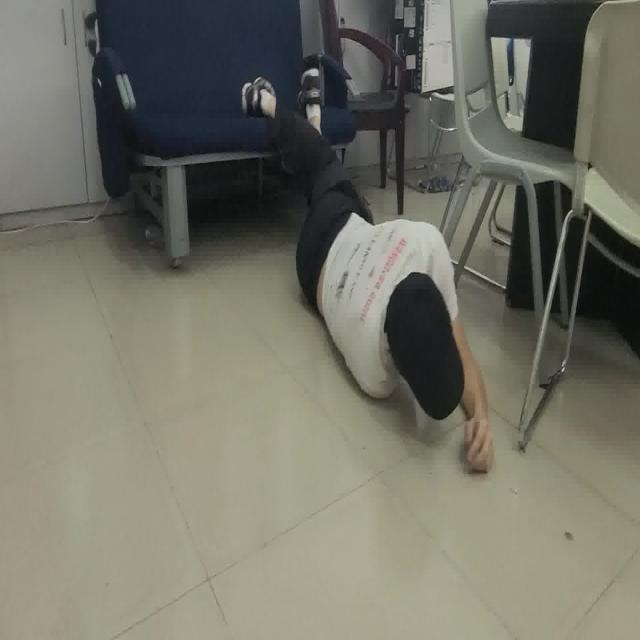fall: (239, 58, 496, 477)
